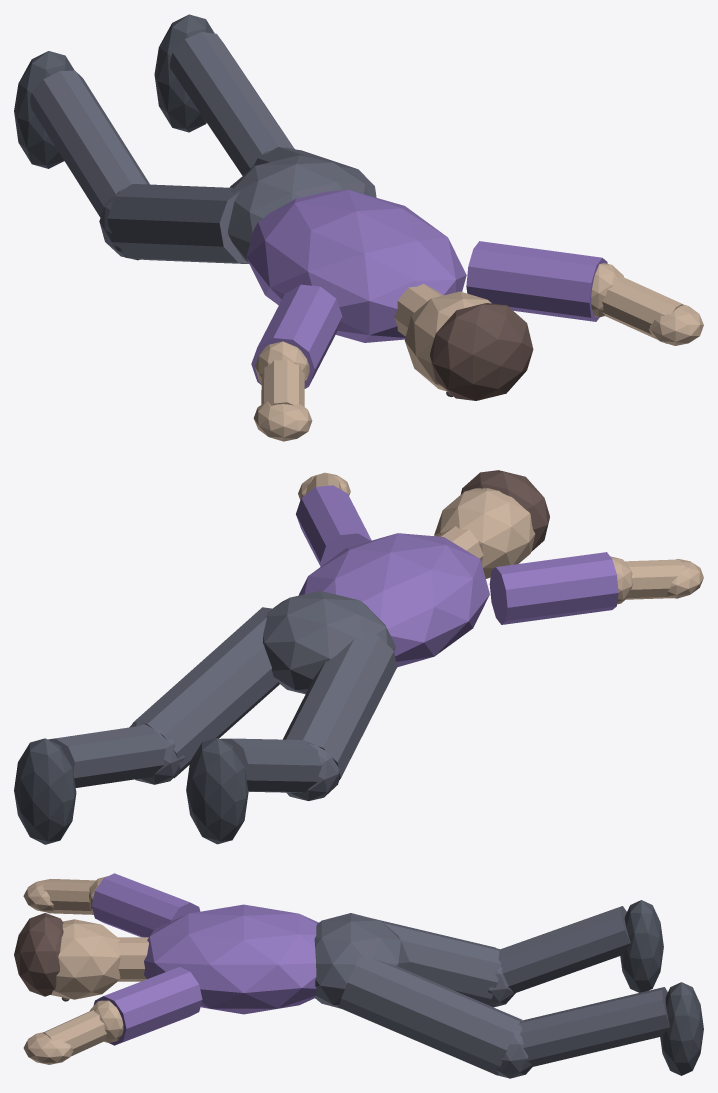
The picture shows the model from 3 angles, top to bottom: view 1: azimuth 30°, elevation 25°; view 2: azimuth 150°, elevation 25°; view 3: azimuth 270°, elevation 25°; orthographic projection. The views are drawn at different scales.
Visible parts, largest first — view 1: world; view 2: world; view 3: world.
Boxes of the visible parts, <box> form: world: <box>14,14,703,441</box>; world: <box>14,470,703,844</box>; world: <box>14,873,703,1078</box>.
Bounding box in the file's own units: 1.17 × 0.3942 × 2.
